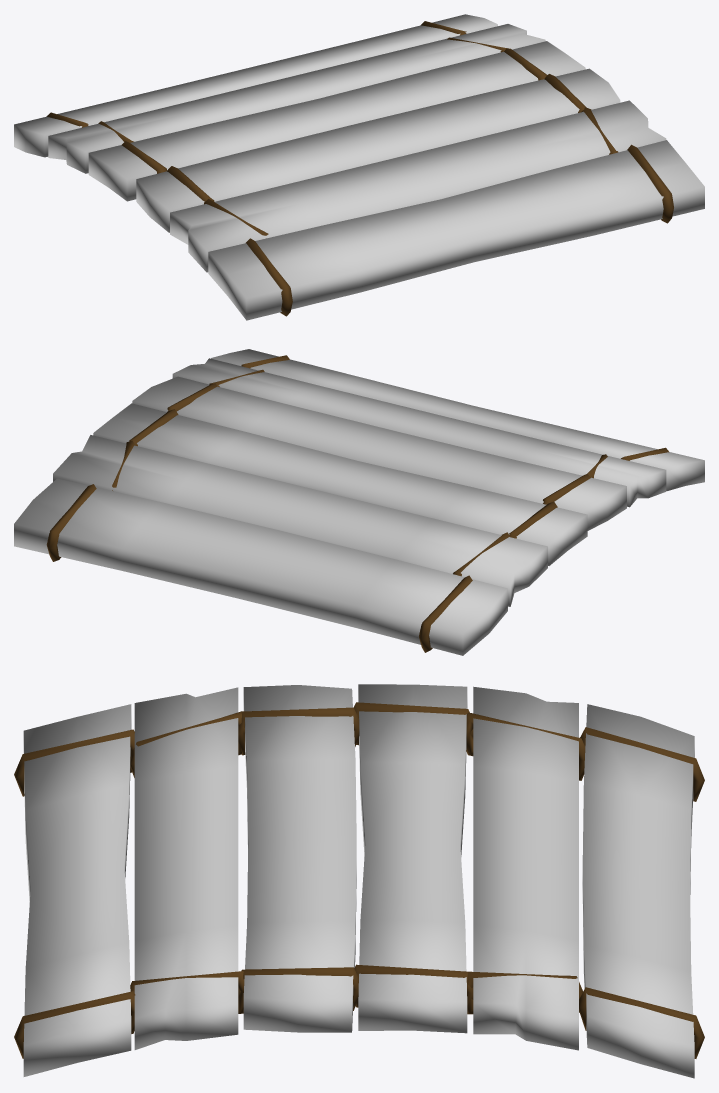
The model's file is qiao.FBX.
3 renders of one model, top to bottom at view 1: azimuth 30°, elevation 25°; view 2: azimuth 150°, elevation 25°; view 3: azimuth 270°, elevation 25°, orthographic. The views are drawn at different scales.
Visible parts, largest first — view 1: qiao; view 2: qiao; view 3: qiao.
Boxes of the visible parts, <box> form: qiao: <box>14,14,704,320</box>; qiao: <box>14,349,704,655</box>; qiao: <box>14,684,704,1078</box>.
Size of the model in its own units: 466 by 64.37 by 429.
